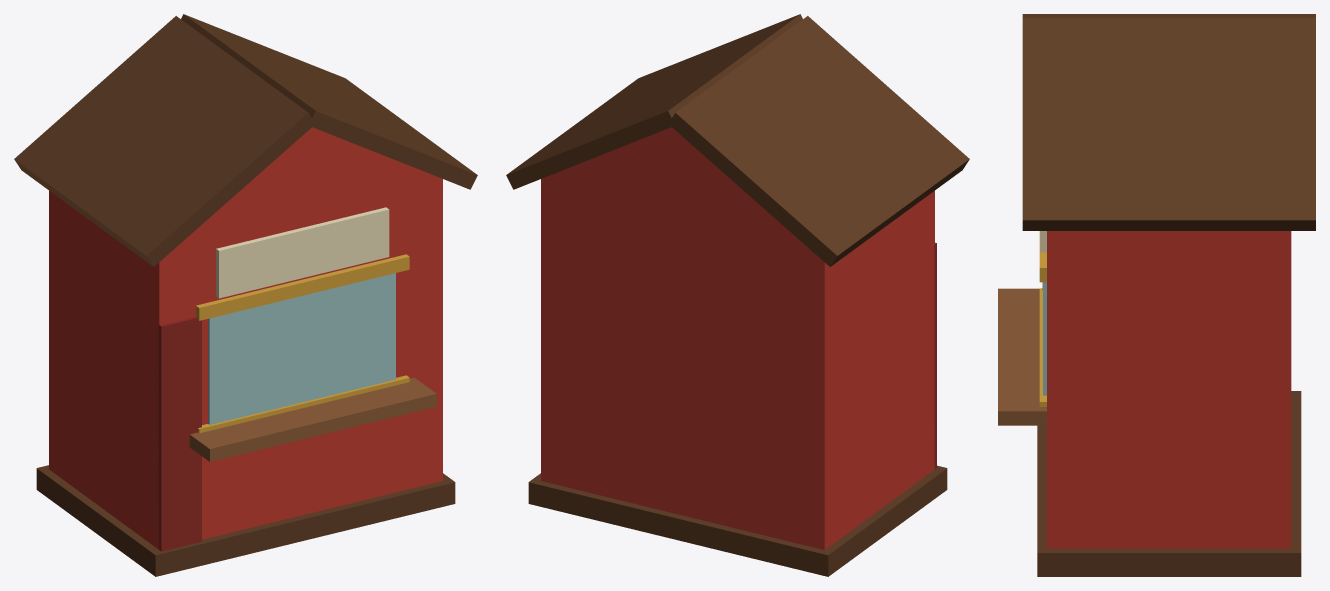
The model's file is LobbyTicketBooth.fbx.
The picture shows the model from 3 angles, left to right: view 1: azimuth 30°, elevation 25°; view 2: azimuth 150°, elevation 25°; view 3: azimuth 270°, elevation 25°; orthographic projection. The views are drawn at different scales.
Visible parts, largest first — view 1: Wall, Detail, Roof; view 2: Wall, Roof, Detail; view 3: Wall, Roof, Detail.
Part boxes in pixels (<box>): Wall: <box>36,127,455,576</box>; Detail: <box>158,207,436,551</box>; Roof: <box>14,14,477,266</box>; Wall: <box>528,127,947,576</box>; Roof: <box>506,14,969,266</box>; Detail: <box>934,242,936,468</box>; Wall: <box>1037,231,1301,576</box>; Roof: <box>1022,14,1315,230</box>; Detail: <box>998,231,1046,425</box>.
Size of the model in its own units: 8 by 10 by 6.
